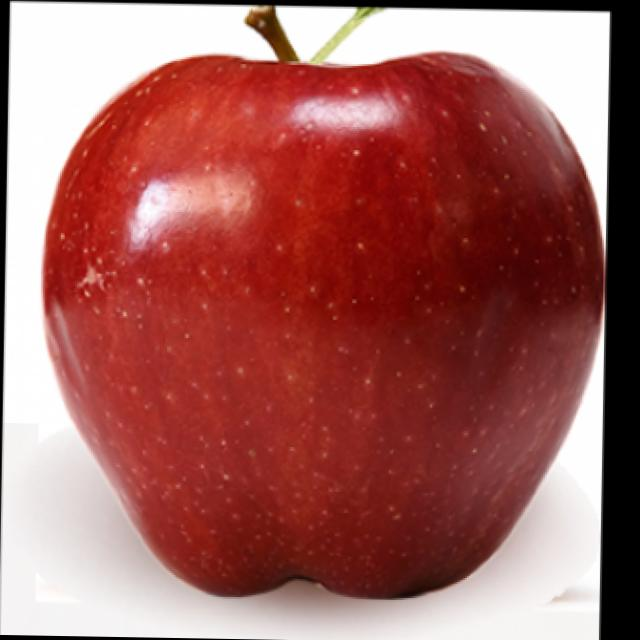apple: (47, 0, 614, 594)
